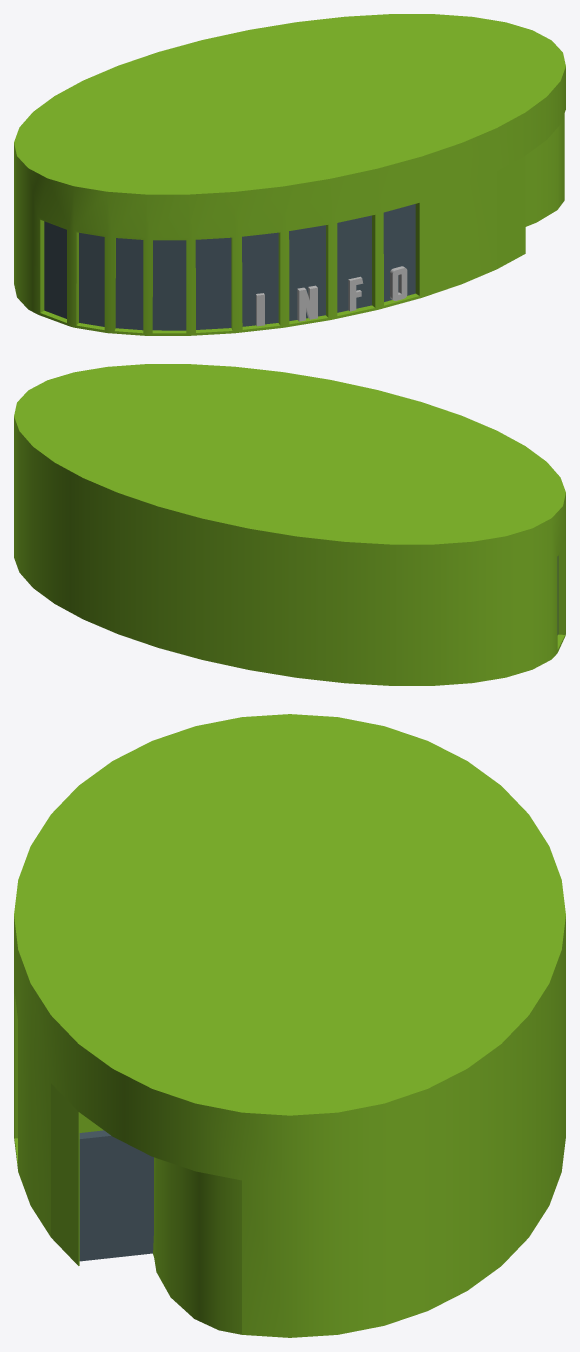
The picture shows the model from 3 angles, top to bottom: view 1: azimuth 30°, elevation 25°; view 2: azimuth 150°, elevation 25°; view 3: azimuth 270°, elevation 25°; orthographic projection. The views are drawn at different scales.
Visible parts, largest first — view 1: A22; view 2: A22; view 3: A22, Entrance.
Boxes of the visible parts, left/top/right/bottom form: A22: left=14, top=14, right=565, bottom=335; A22: left=14, top=364, right=565, bottom=685; A22: left=14, top=714, right=565, bottom=1337; Entrance: left=79, top=1130, right=153, bottom=1261.
Bounding box in the file's own units: 15.5 × 4 × 9.
